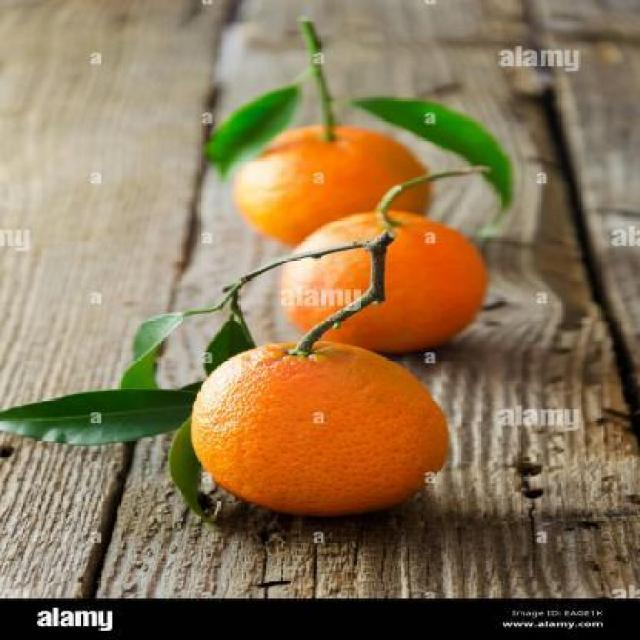Jeruk Sudah Matang: (194, 342, 453, 521), (279, 209, 492, 360), (229, 122, 442, 256)
